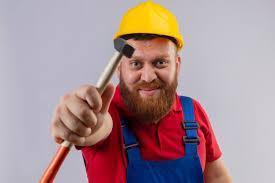helmet: (113, 0, 184, 50)
